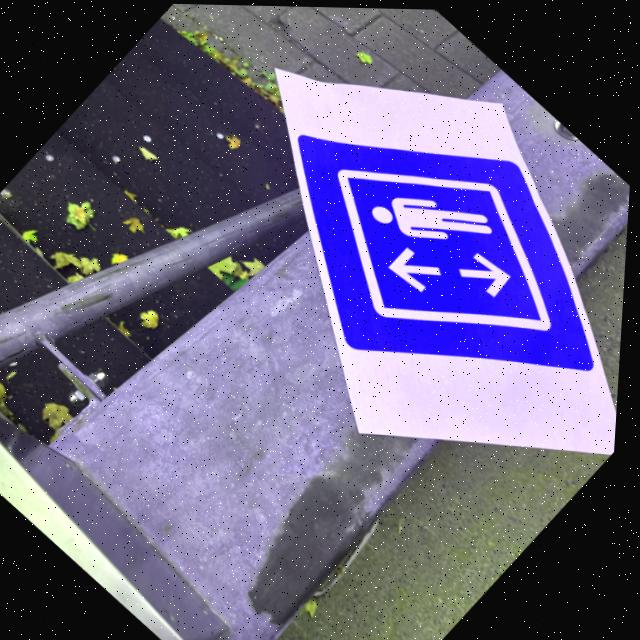elevator: (295, 131, 594, 366)
